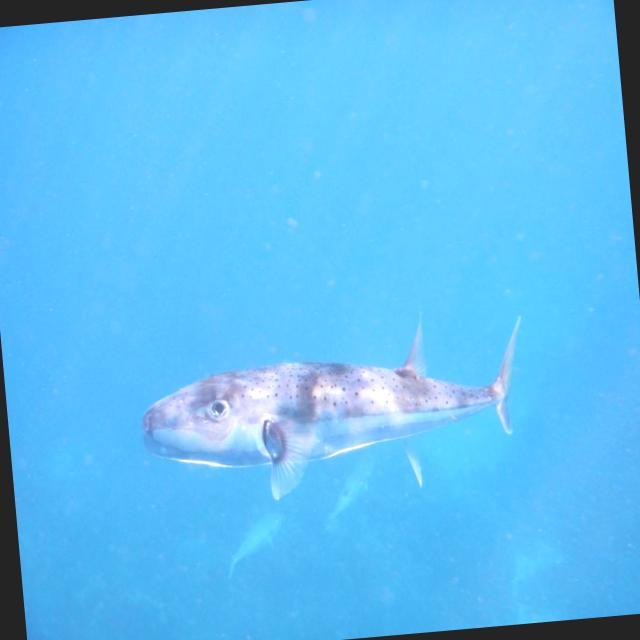Balon Baligi: (133, 302, 536, 514)
